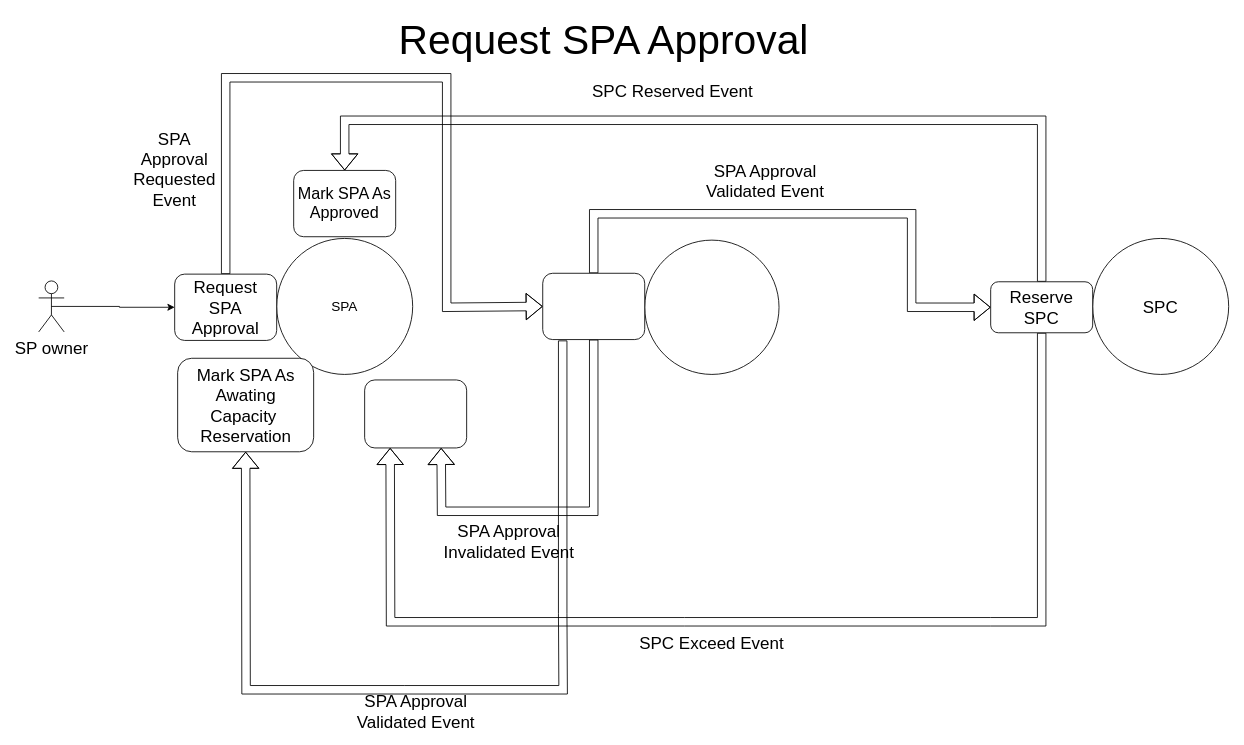
Some shapes in this 1244 by 745 pixel diagram are drawn without their labels. The box of each missing label's shape, as (x1, y1, x2, y2) in pixels:
Mark SPA As Rejected: (364, 379, 467, 448)
SP: (644, 239, 779, 374)
Validate SPA Approval: (542, 272, 645, 340)
